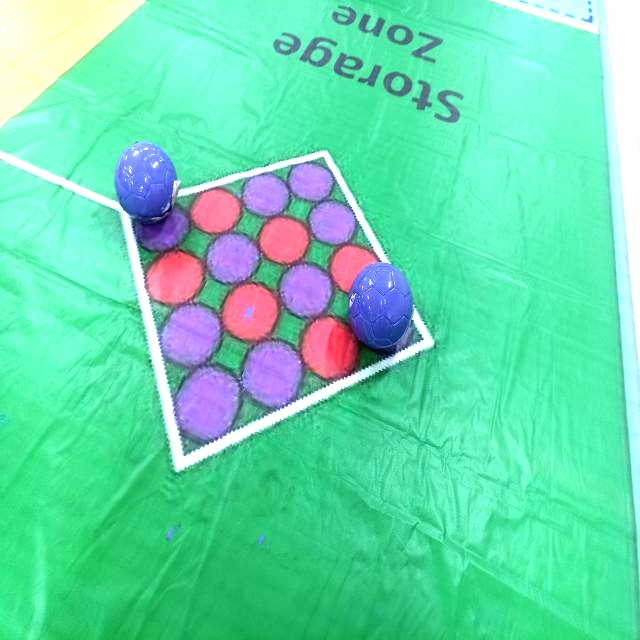purple_ball: (349, 261, 414, 348), (115, 143, 178, 223)
